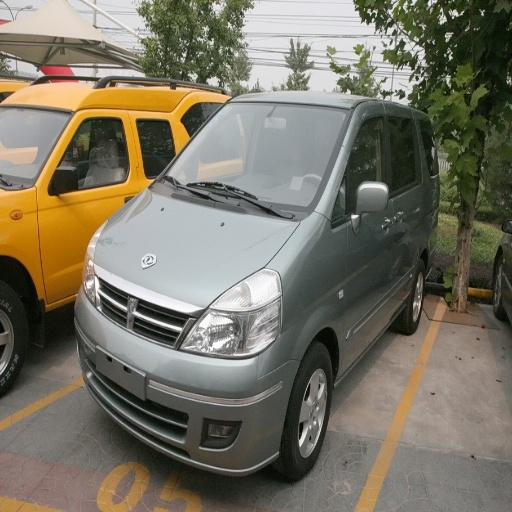front_bumper: (77, 276, 300, 475)
front_glass: (158, 102, 350, 219), (13, 109, 70, 141)
front_left_door: (331, 107, 396, 360), (48, 115, 105, 226)
